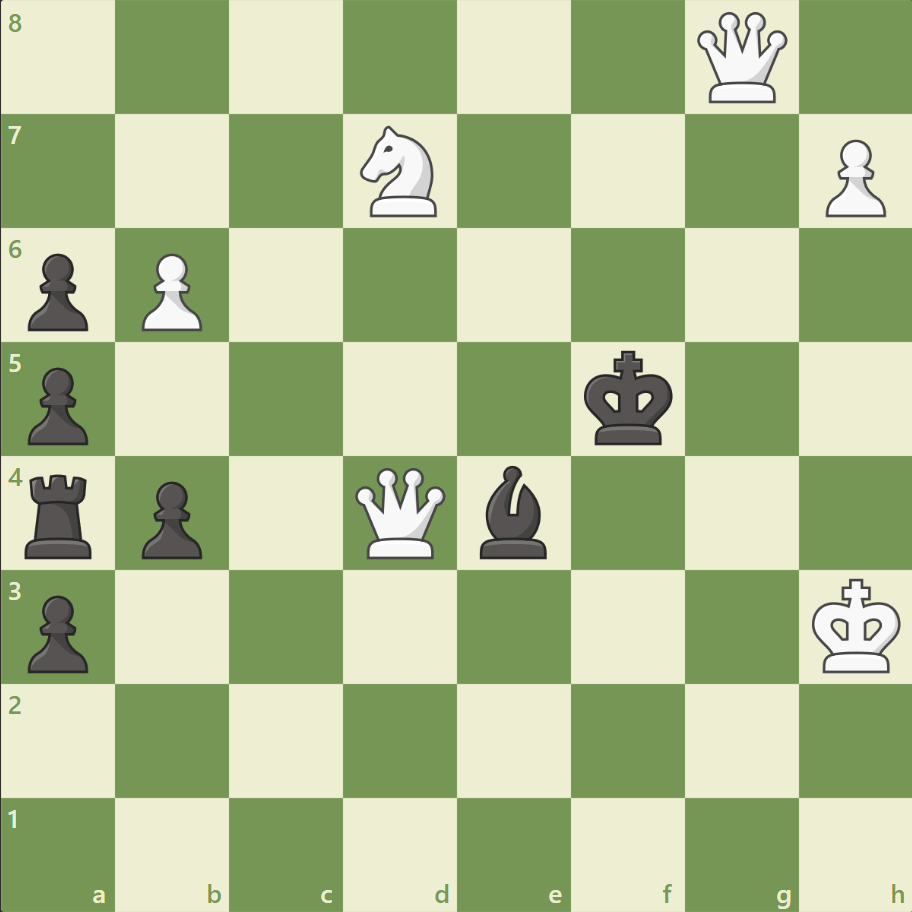K: (806, 571, 906, 679)
N: (351, 121, 449, 223)
P: (133, 246, 208, 337), (815, 132, 889, 223)
Q: (691, 9, 790, 108), (351, 463, 450, 562)
b: (471, 460, 555, 563)
k: (579, 344, 679, 452)
p: (20, 246, 95, 337), (20, 359, 95, 450), (133, 473, 208, 564), (20, 586, 95, 677)
r: (19, 466, 102, 563)
